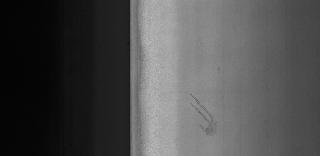water spot: (186, 92, 224, 140)
